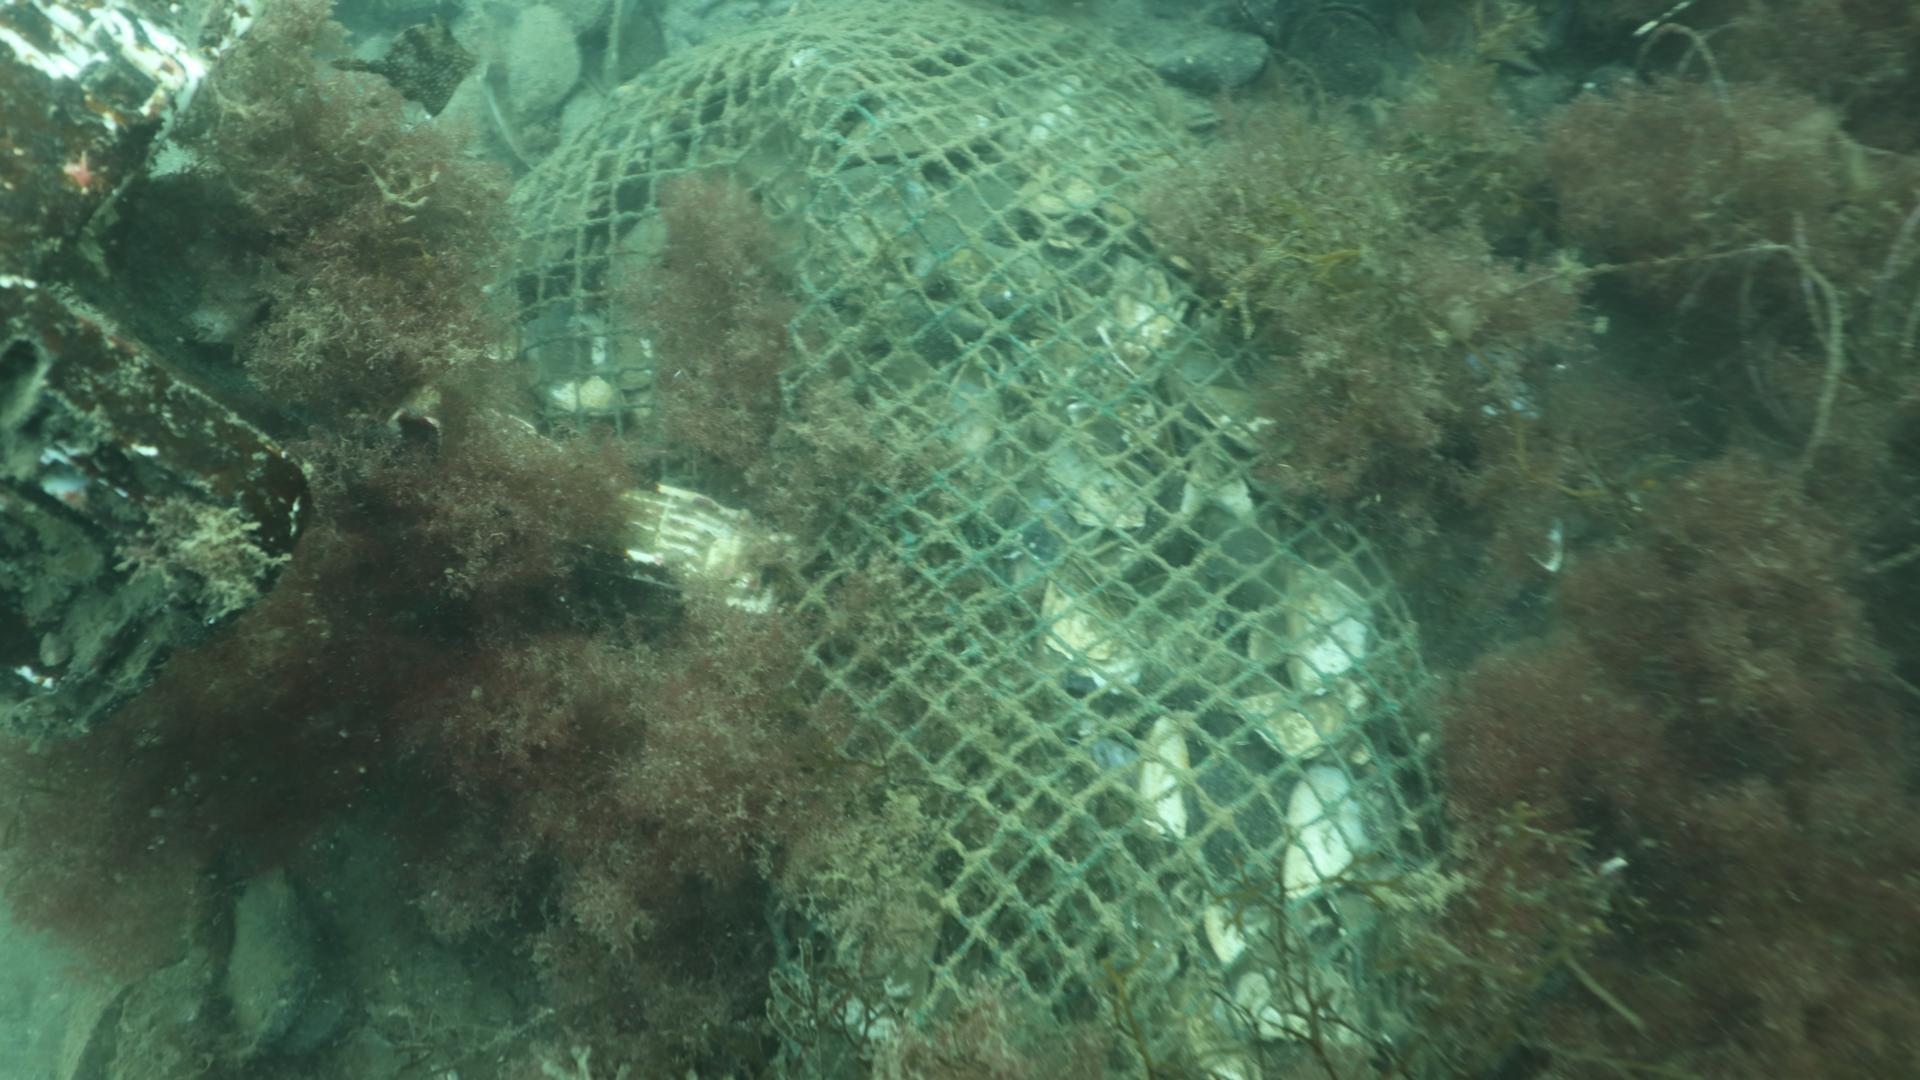fish net: (473, 0, 1452, 1080)
